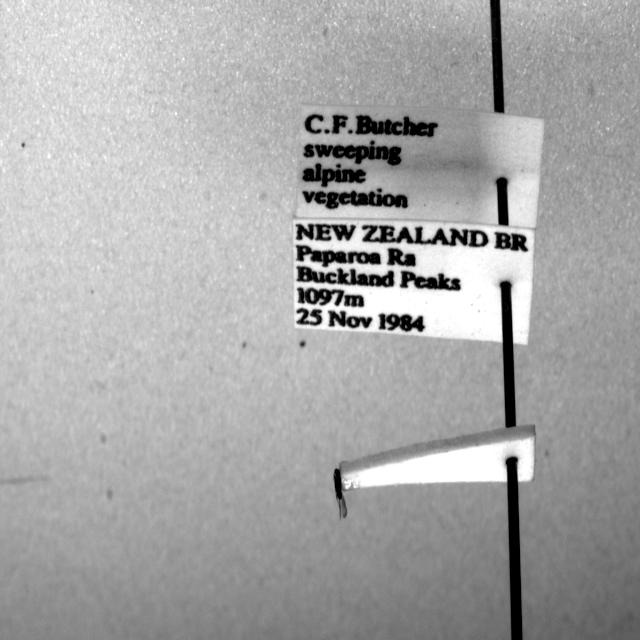typed_label: (298, 105, 544, 229), (294, 219, 535, 345)
